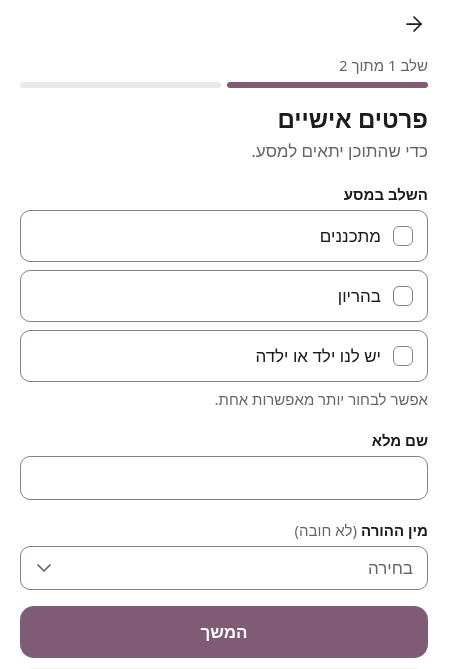
it: F1.4 criterion 4 [FR-REG-004 · AC-084 · AC-088 · BR-068] step 2 fields and consent › [BR-068][AC-084] ONE required checkbox for terms, privacy and 18+, with links to the public documents that open in a new tab
This screenshot has width=449, height=669.
Click the checkbox labelled "מתכננים". click: (350,236)
box: [20,210,428,262]
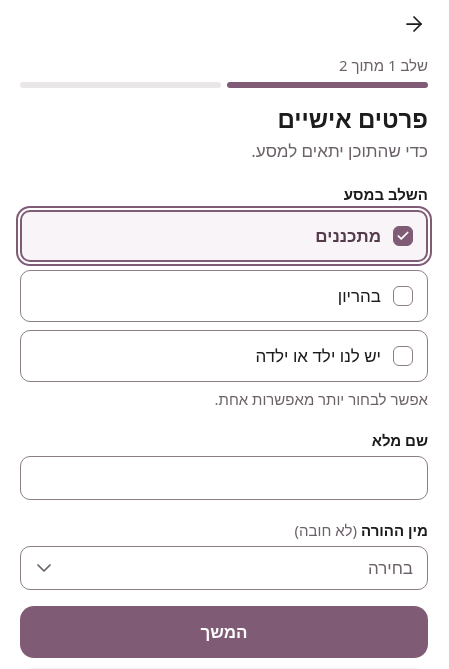
Type "דנה כהן" into the field labelled "שם מלא". click: (224,478)
box: [20,456,428,500]
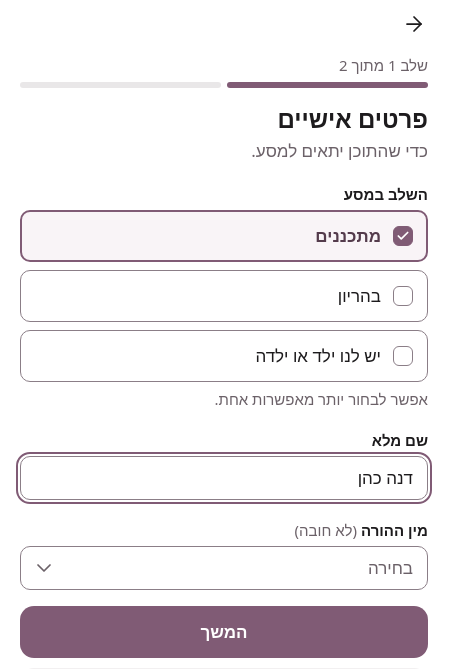
Click the button "המשך". click: (224,632)
box: [20,606,428,658]
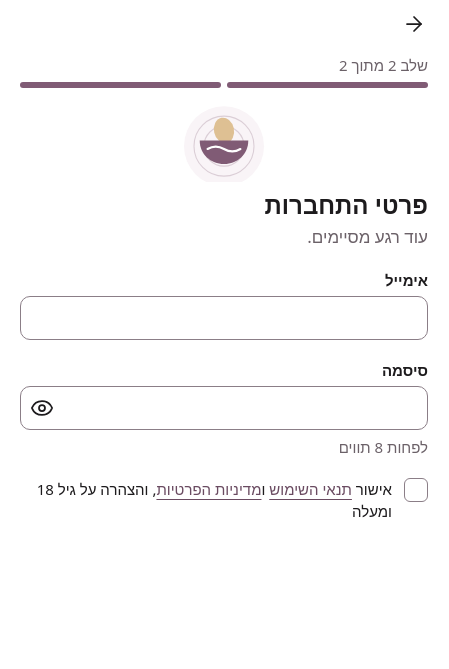
Now the heading reads "פרטי התחברות", box [265,188,428,221]
Now the checkbox named "אישור תנאי השימוש ומדיניות הפרטיות, והצהרה על גיל 18 ומעלה" is not checked, box [404,478,428,502]
Now the number of checkboxes is 1, box [404,478,428,502]
